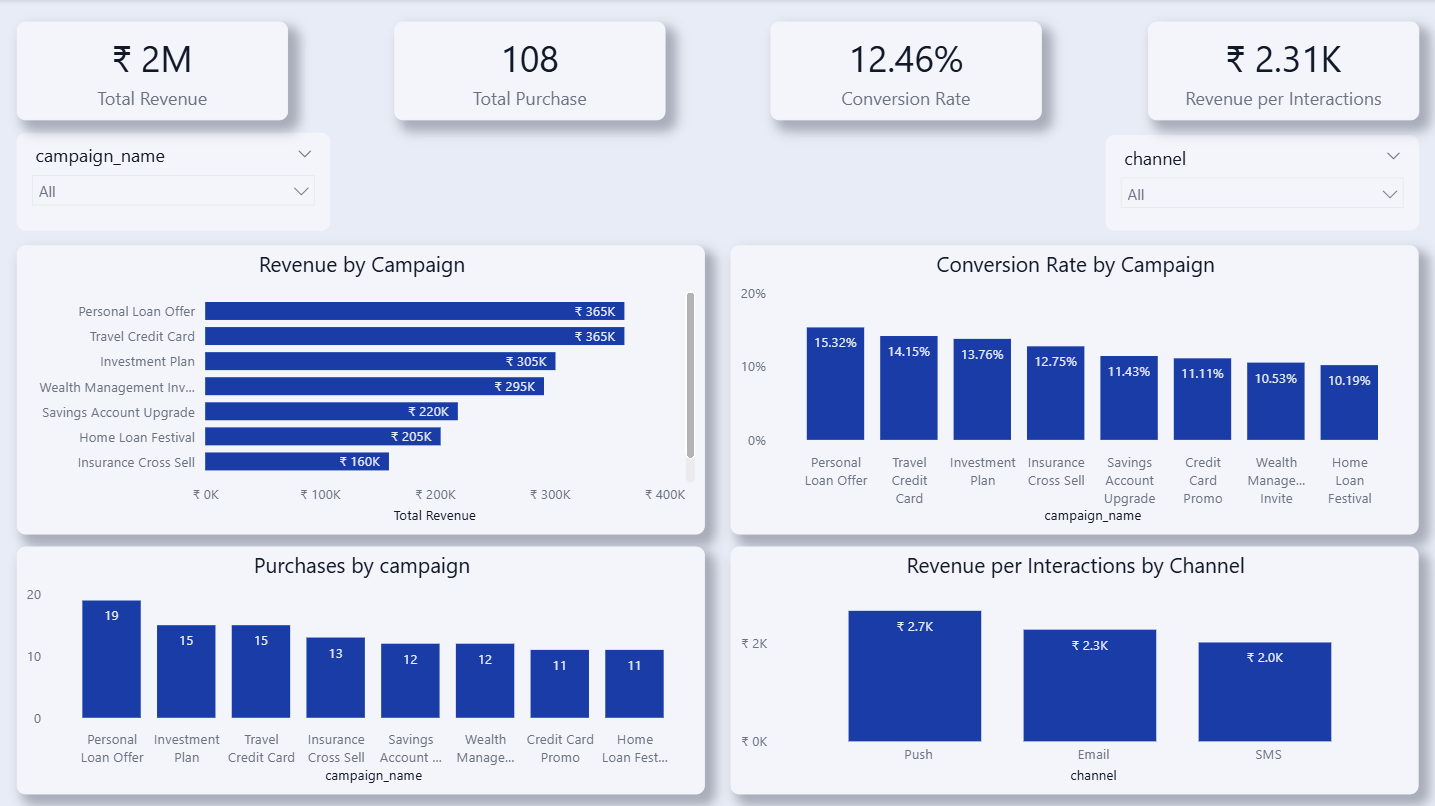

What the dashboard file says about the page in this screenshot:
{"tool":"powerbi","page":{"name":"Campaign Performance","canvas":[1280,720],"ordinal":1},"visuals":[{"type":"slicer","fields":{"Values":["campaigns.campaign_name"]},"box":[17.2,119.6,279.6,87.1],"z":0},{"type":"slicer","fields":{"Values":["campaigns.channel"]},"box":[985.9,120.8,279.6,84.6],"z":1000},{"type":"card","fields":{"Values":["Customers.Total Revenue"]},"box":[17.2,19.6,241.6,88.3],"z":2000},{"type":"card","fields":{"Values":["Customers.Total Purchase"]},"box":[352.8,19.6,241.6,88.3],"z":3000},{"type":"card","fields":{"Values":["Customers.Conversion Rate"]},"box":[688.4,19.6,241.6,88.3],"z":4000},{"type":"card","fields":{"Values":["Customers.Revenue per Interactions"]},"box":[1024,19.6,241.6,88.3],"z":5000},{"type":"clusteredBarChart","title":"Revenue by Campaign","fields":{"Category":["campaigns.campaign_name"],"Y":["Customers.Total Revenue"]},"box":[17.2,219.5,613.1,257.5],"z":6000},{"type":"clusteredColumnChart","title":"Conversion Rate by Campaign","fields":{"Y":["Customers.Conversion Rate"],"Category":["campaigns.campaign_name"]},"box":[652.4,219.5,613.1,257.5],"z":7000},{"type":"columnChart","title":"Purchases by campaign","fields":{"Category":["campaigns.campaign_name"],"Y":["Customers.Total Purchase"]},"box":[17.2,488.1,613.1,220.7],"z":8000},{"type":"columnChart","title":"Revenue per Interactions by Channel","fields":{"Category":["campaigns.channel"],"Y":["Customers.Revenue per Interactions"]},"box":[652.4,488.1,613.1,220.7],"z":9000}]}

Visuals, with their boxes in screenshot pixels (x1, y1, x2, y2), scaled from the page's 1280x720 canvas onto the 1435x806 screenshot:
slicer - campaigns.campaign_name: select_region(19, 134, 333, 231)
slicer - campaigns.channel: select_region(1105, 135, 1419, 230)
card - Customers.Total Revenue: select_region(19, 22, 290, 121)
card - Customers.Total Purchase: select_region(396, 22, 666, 121)
card - Customers.Conversion Rate: select_region(772, 22, 1043, 121)
card - Customers.Revenue per Interactions: select_region(1148, 22, 1419, 121)
"Revenue by Campaign" clusteredBarChart: select_region(19, 246, 707, 534)
"Conversion Rate by Campaign" clusteredColumnChart: select_region(731, 246, 1419, 534)
"Purchases by campaign" columnChart: select_region(19, 546, 707, 793)
"Revenue per Interactions by Channel" columnChart: select_region(731, 546, 1419, 793)
